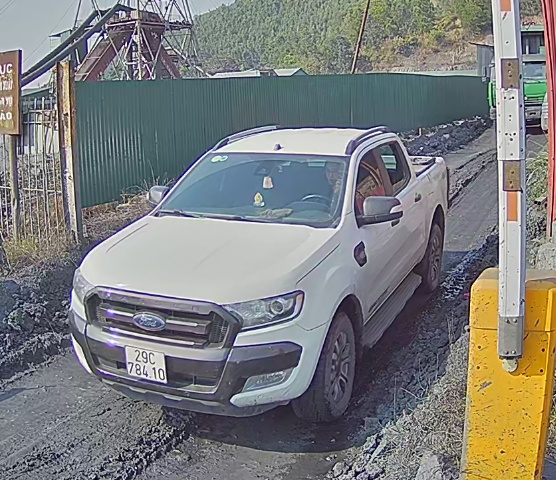vehicle plate: (119, 341, 172, 386)
